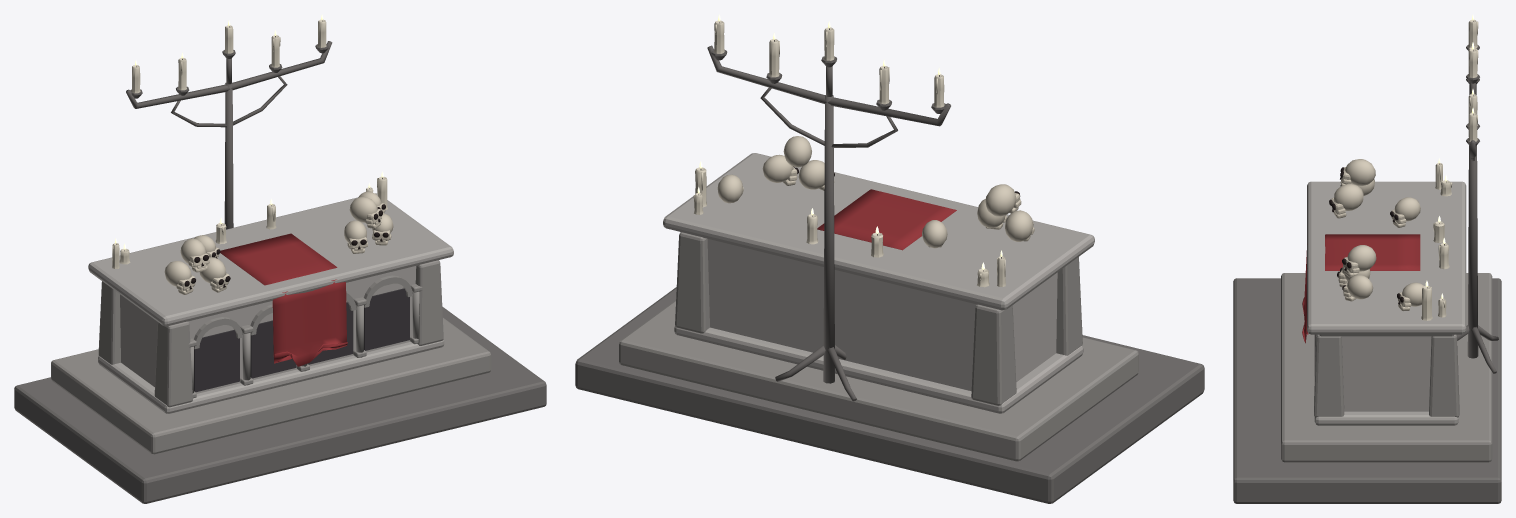
File: altar.glb
The picture shows the model from 3 angles, left to right: view 1: azimuth 30°, elevation 25°; view 2: azimuth 150°, elevation 25°; view 3: azimuth 270°, elevation 25°; orthographic projection. The views are drawn at different scales.
Visible parts, largest first — view 1: altar; view 2: altar; view 3: altar.
Part boxes in pixels (x1,y1,x2,y2): altar: (14, 14, 546, 503); altar: (575, 14, 1204, 503); altar: (1233, 14, 1501, 503).
Bounding box in the file's own units: 5 × 4.15 × 2.8.
